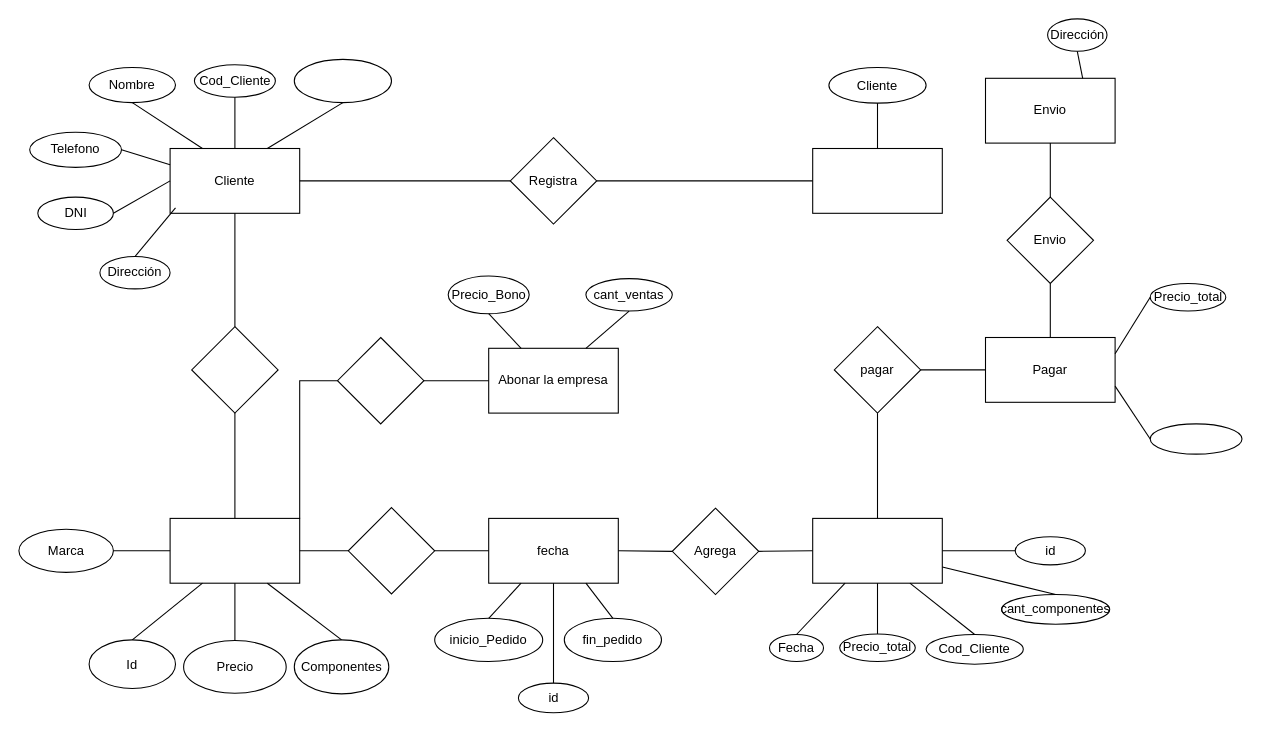
Image size: 1261x732. Some labels were removed from this diagram. The shapes that lost their labels are listed below. From the top down, each one's centre as x and y in pixels, then its label:
(342,80): Correo Electronico
(877,180): App
(234,369): Selecciona
(380,380): Verificar
(1195,438): metodo_pago
(234,550): Venta
(391,550): Insertar
(877,550): factura
